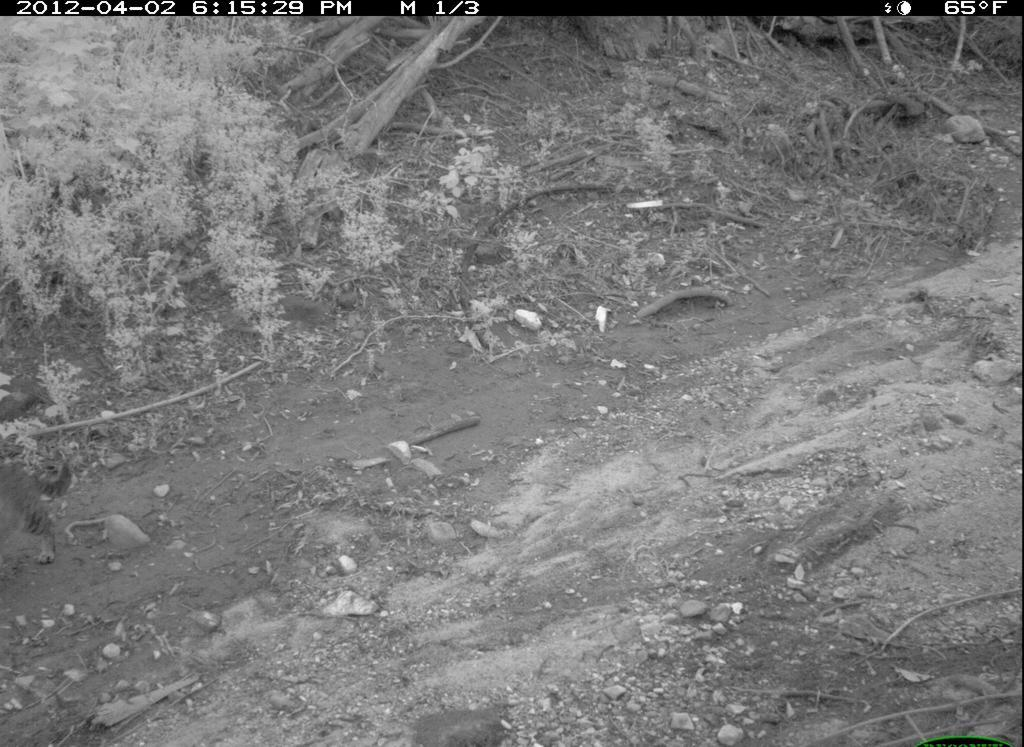cat: (1, 455, 79, 576)
